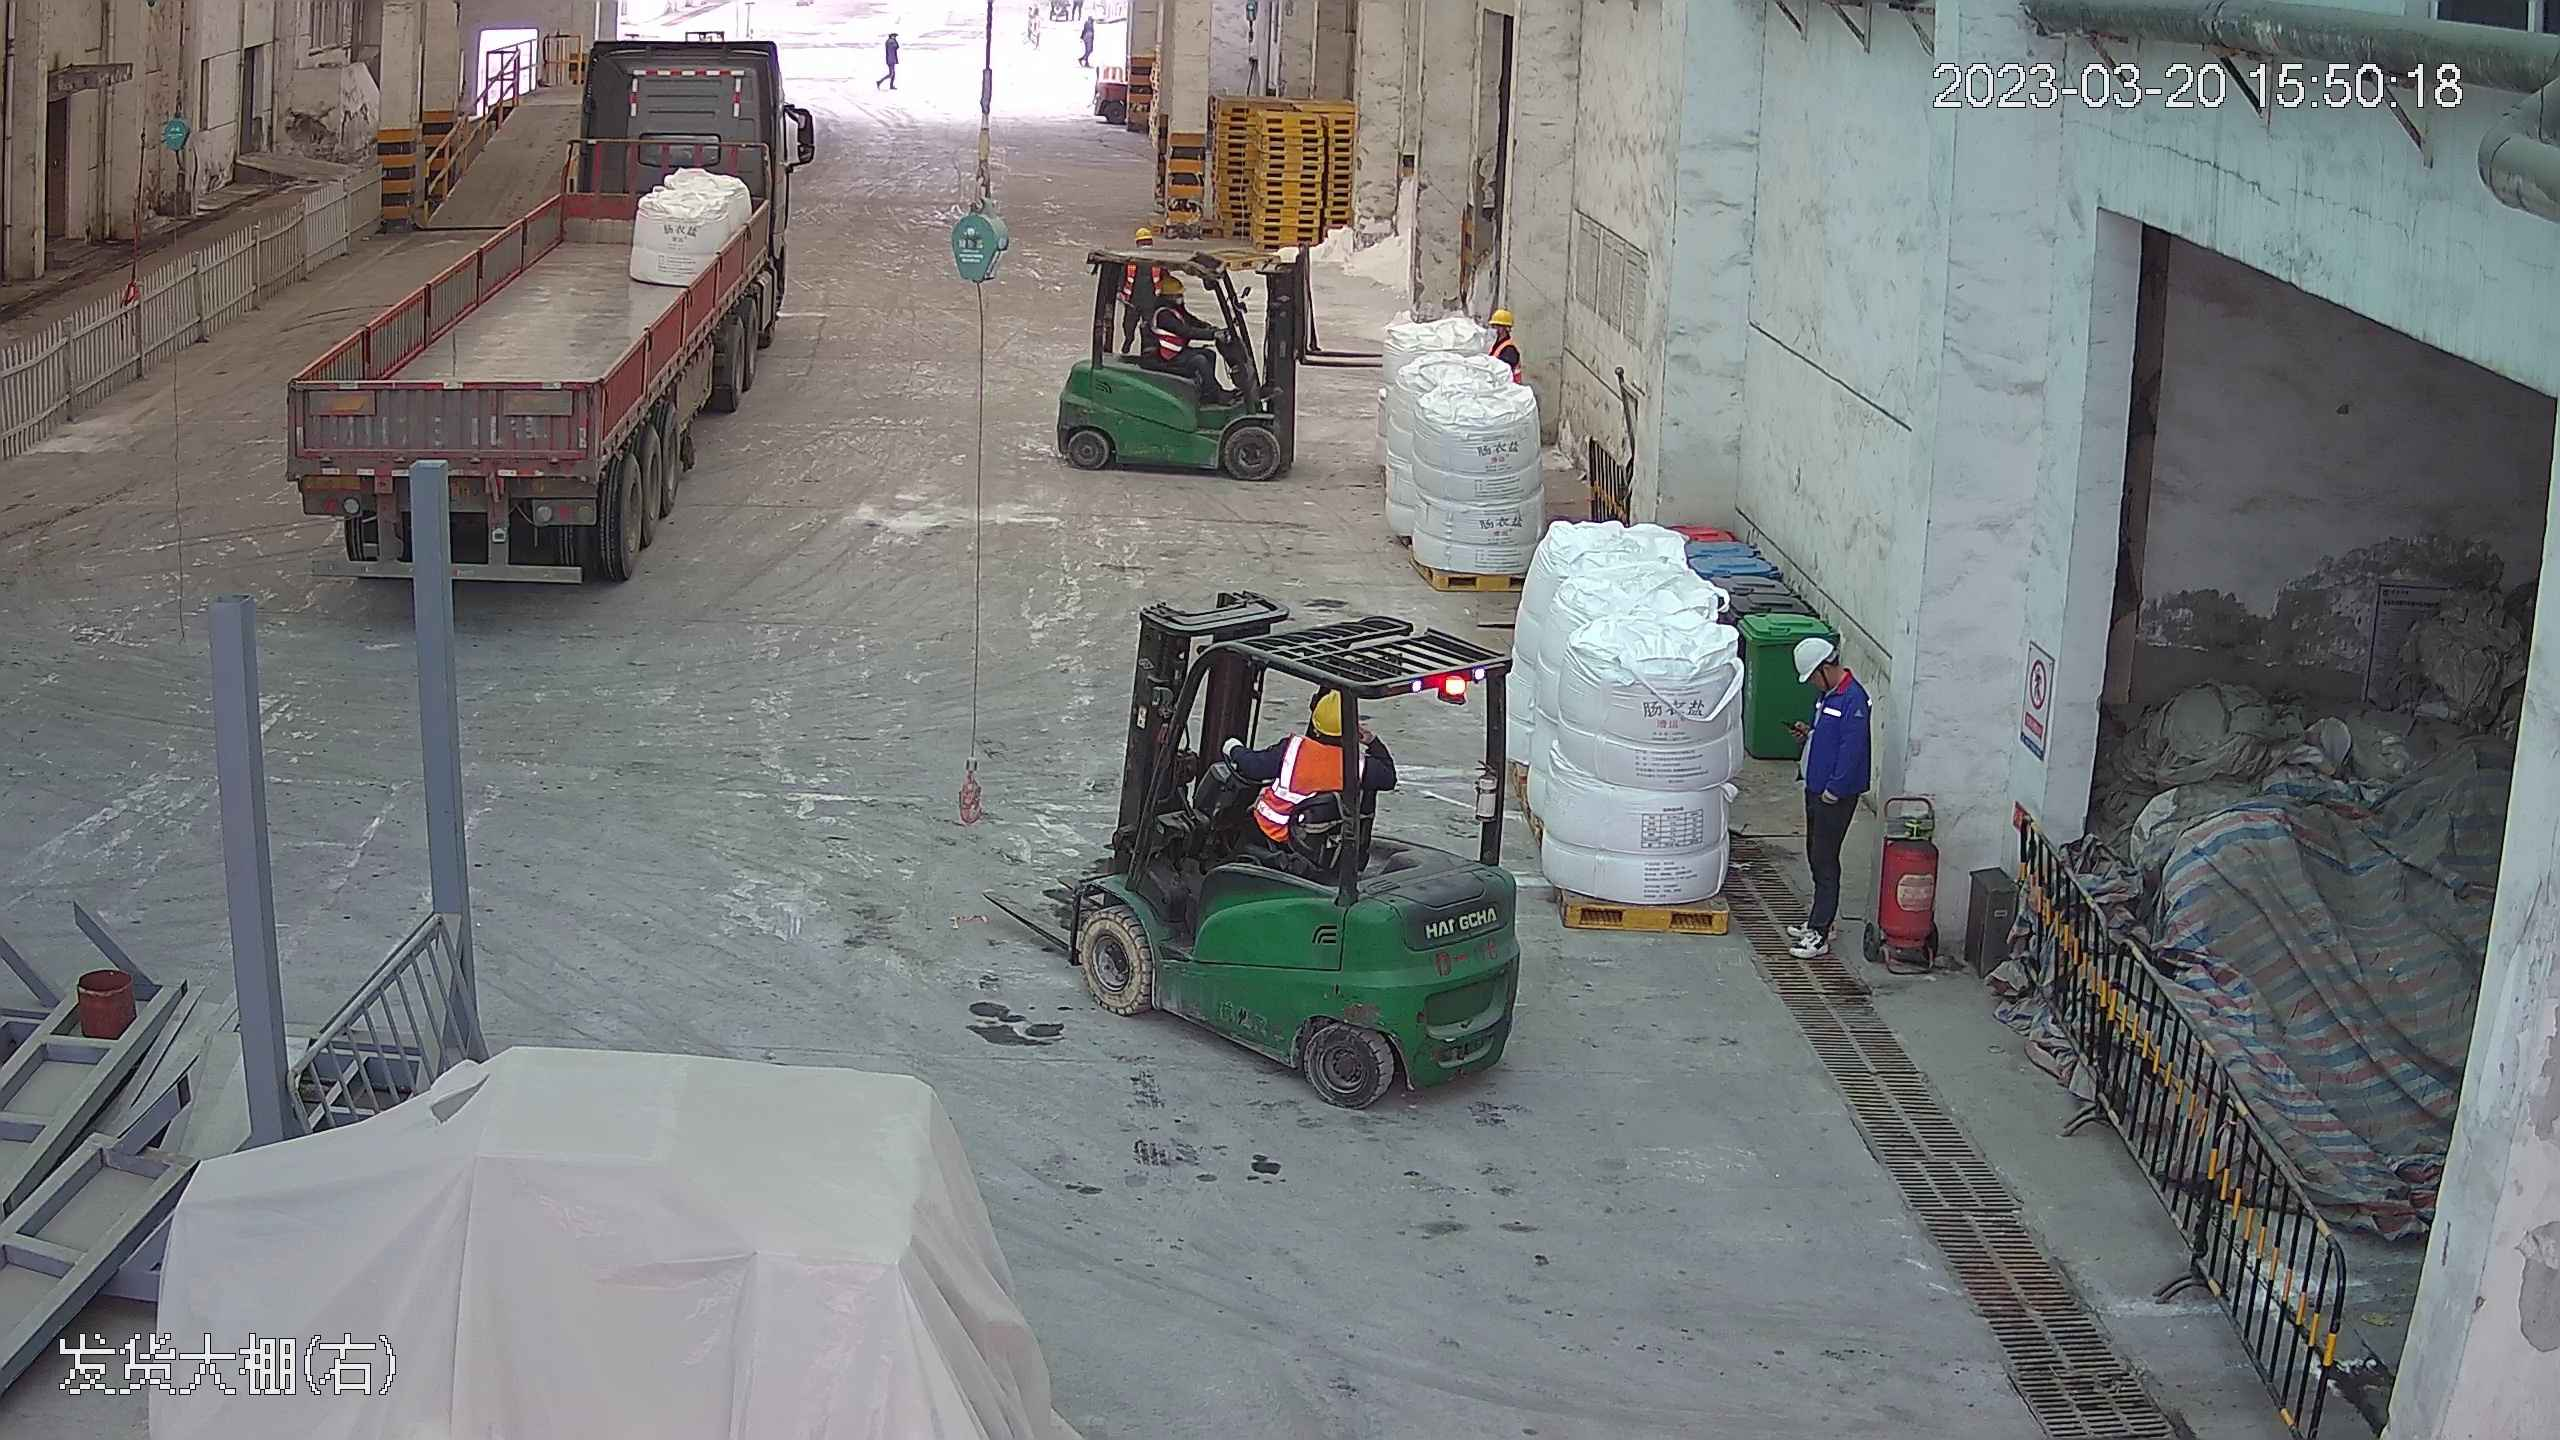head: (1277, 686, 1369, 782), (1799, 640, 1869, 733), (1146, 269, 1196, 328)
helmet: (1802, 637, 1859, 698), (1311, 686, 1351, 734), (1798, 637, 1840, 678), (1490, 304, 1518, 330), (1157, 269, 1182, 290), (1132, 225, 1156, 243)
people: (1785, 631, 1876, 961), (1152, 276, 1237, 410)
truck: (268, 7, 805, 589)
